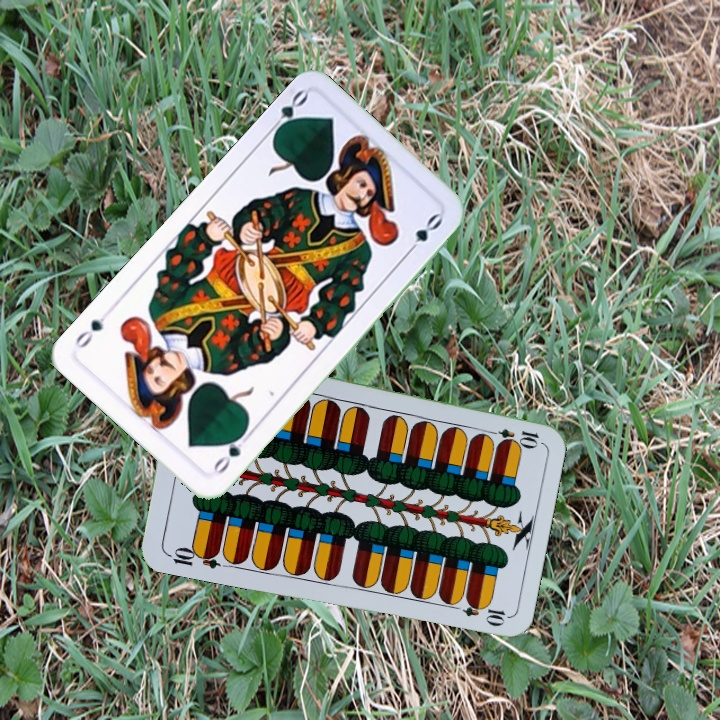E10: (163, 542, 222, 571), (482, 424, 541, 448)
GO: (264, 86, 311, 139), (209, 427, 253, 477)
